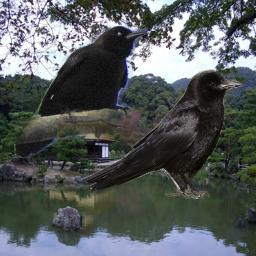Crow: (83, 69, 243, 199), (14, 26, 148, 158)
